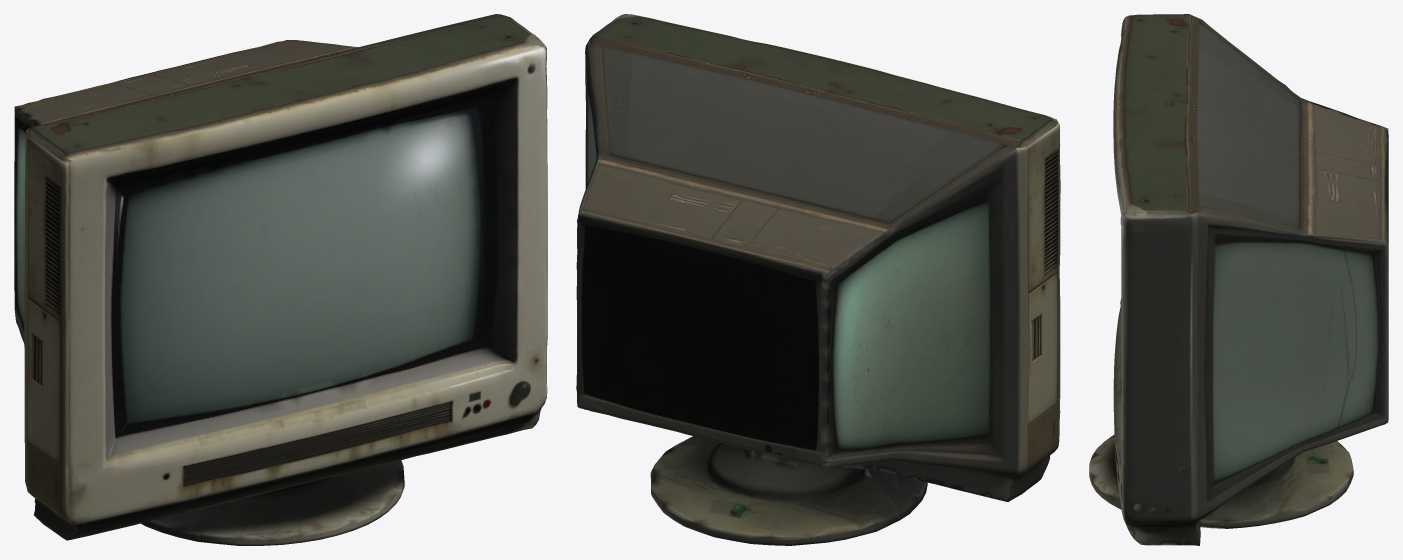
Rendered from meshy_1780591219340.glb.
3 renders of one model, left to right at view 1: azimuth 30°, elevation 25°; view 2: azimuth 150°, elevation 25°; view 3: azimuth 270°, elevation 25°, orthographic. The views are drawn at different scales.
Bounding box in the file's own units: 2.01 × 1.68 × 1.26.
1 material, 1 textured.
